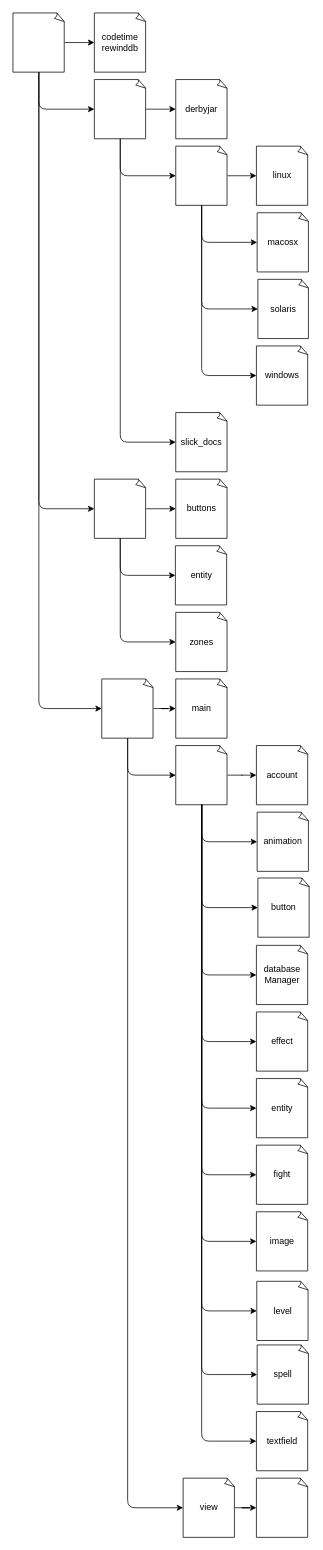
This 323x1550 diagram has some shape labels left out. The shapes that lost their labels are listed below. From the top down, each one's centre as x and y in pixels, then its label:
(38,42): CodeTime Rewind
(120,109): libs
(201,175): native
(120,508): res
(127,708): src
(201,775): model
(282,1507): guis
